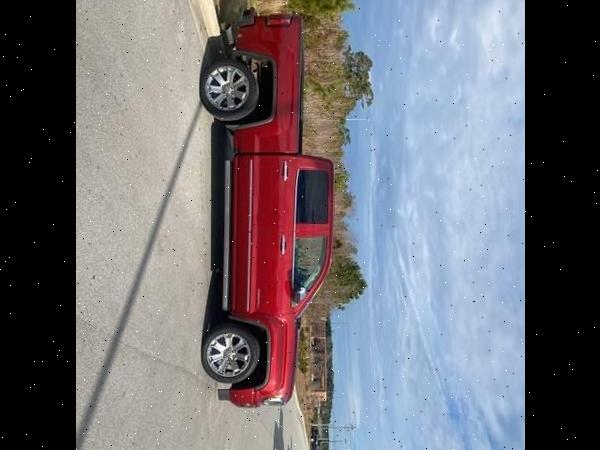Front_Bumper: (216, 388, 263, 409)
Front_Fender: (230, 313, 288, 400)
Front_Right_Door: (230, 231, 295, 317)
Front_Right_Window: (293, 231, 332, 316)
Hood: (283, 315, 298, 401)
Rear_Bumper: (237, 5, 256, 27)
Rear_Fender: (233, 14, 300, 153)
Rear_Right_Door: (234, 155, 298, 232)
Rear_Right_Window: (295, 157, 333, 233)
Right_Headlight: (261, 395, 285, 406)
Right_Taillight: (265, 15, 293, 25)
Wheel: (199, 60, 257, 119), (202, 325, 257, 383)
